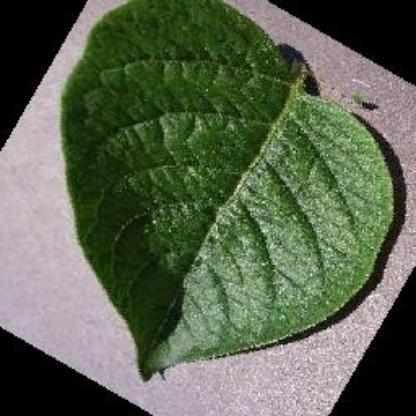Healthy-plant: (59, 2, 398, 384)
